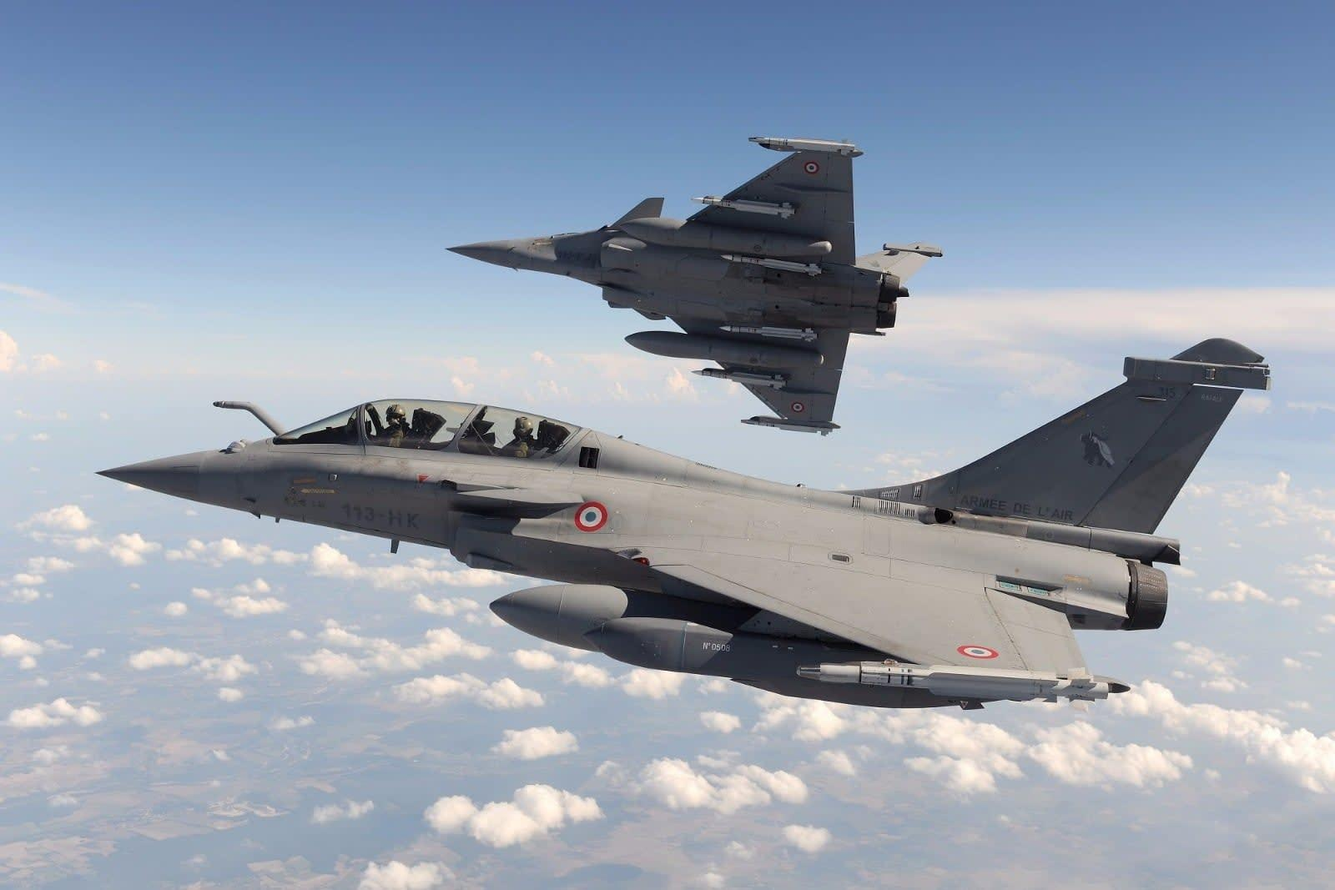aircraft: (103, 365, 1269, 706), (446, 133, 951, 431)
